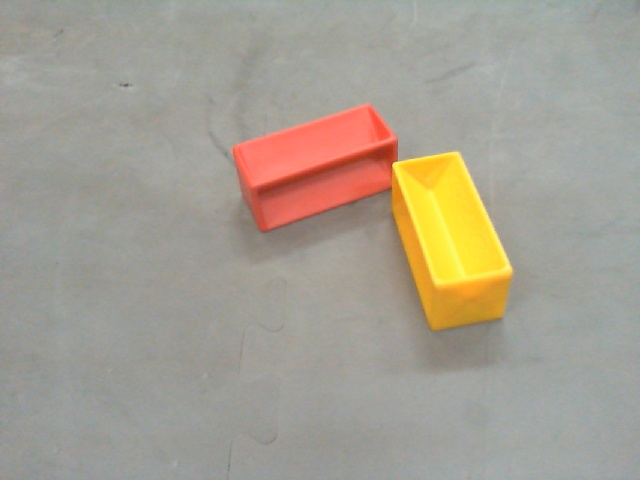RedSample: (230, 102, 402, 234)
YellowSample: (391, 143, 516, 335)
